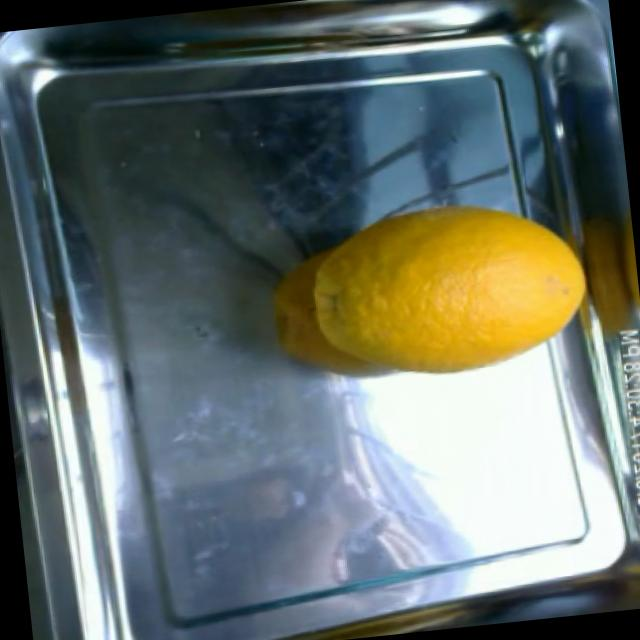Fruit: (372, 182, 600, 390), (250, 226, 441, 405)
